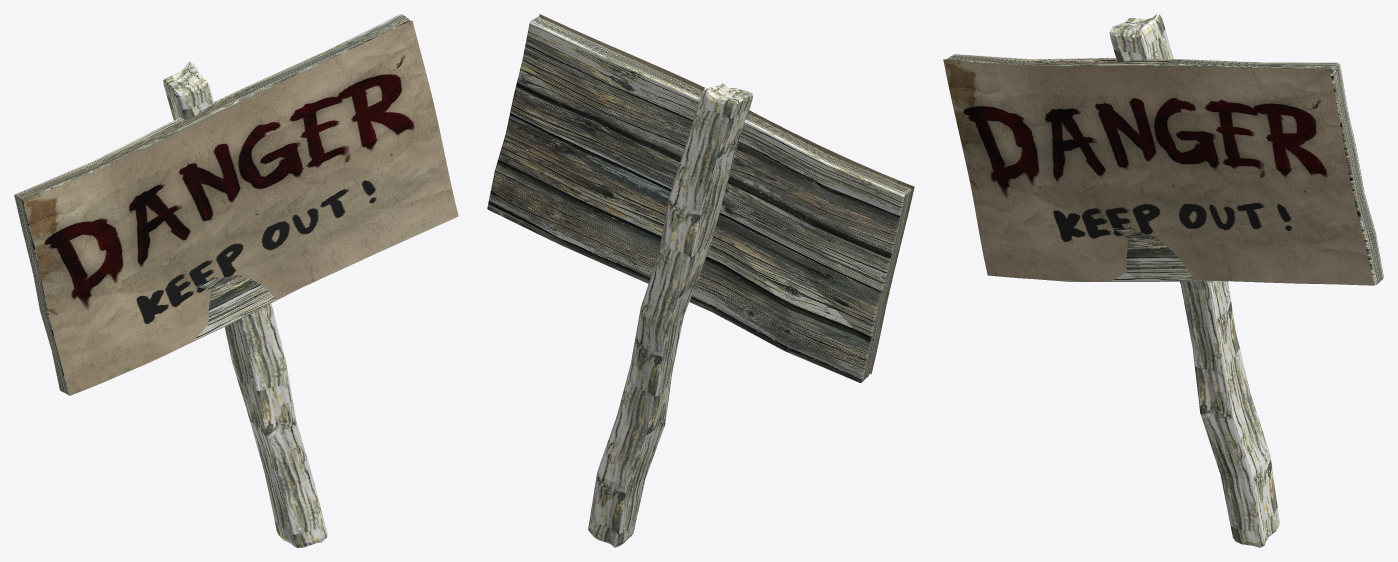
File: schild OBJ.obj
3 renders of one model, left to right at view 1: azimuth 30°, elevation 25°; view 2: azimuth 150°, elevation 25°; view 3: azimuth 330°, elevation 25°, orthographic. The views are drawn at different scales.
Parts seen in each view (by area): view 1: QuadPatch01, ChamferBox01, ChamferBox03; view 2: ChamferBox03, ChamferBox01, QuadPatch01; view 3: QuadPatch01, ChamferBox01, ChamferBox03.
Part boxes in pixels (x1,y1,x2,y2): QuadPatch01: [23, 20, 458, 395]; ChamferBox01: [163, 61, 327, 547]; ChamferBox03: [14, 14, 410, 395]; ChamferBox03: [487, 16, 911, 382]; ChamferBox01: [588, 83, 753, 547]; QuadPatch01: [539, 14, 914, 374]; QuadPatch01: [943, 59, 1373, 285]; ChamferBox01: [1109, 14, 1279, 547]; ChamferBox03: [946, 54, 1383, 285].
Size of the model in its own units: 588 by 659 by 75.85.
2 materials, 2 textured.
